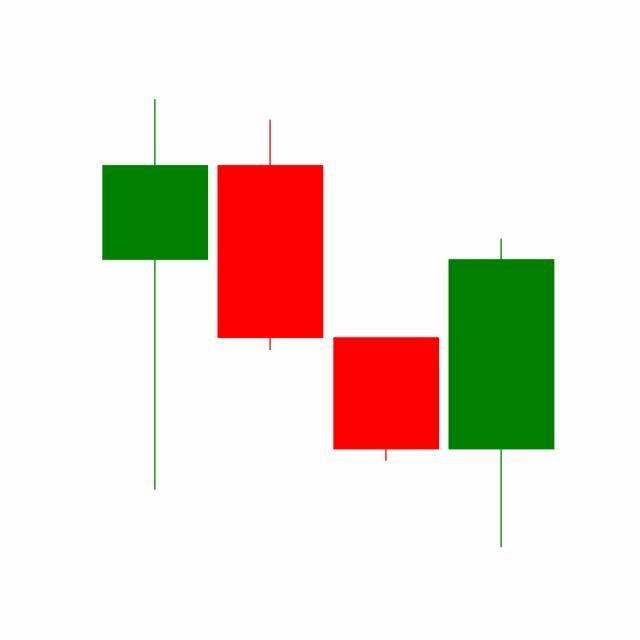Marubozu: (329, 337, 445, 464)
